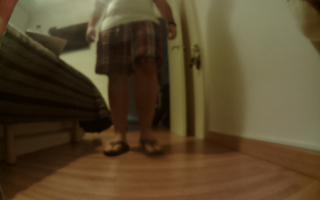person: (87, 1, 180, 158)
